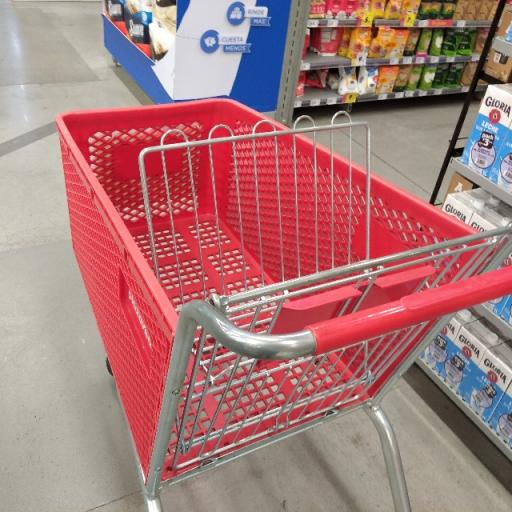shopping_cart: (56, 96, 512, 512)
